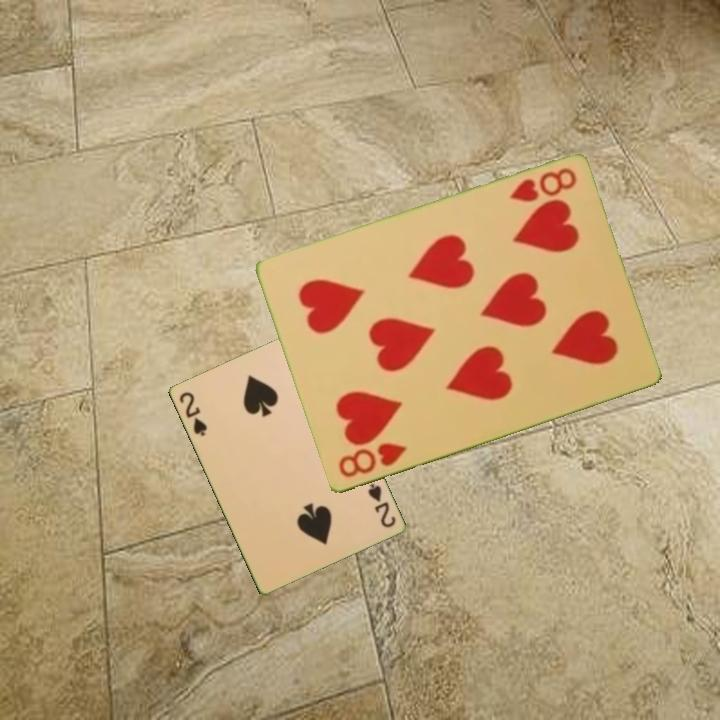2s: (175, 388, 210, 439), (364, 479, 398, 531)
8h: (334, 439, 409, 482), (506, 164, 580, 206)
